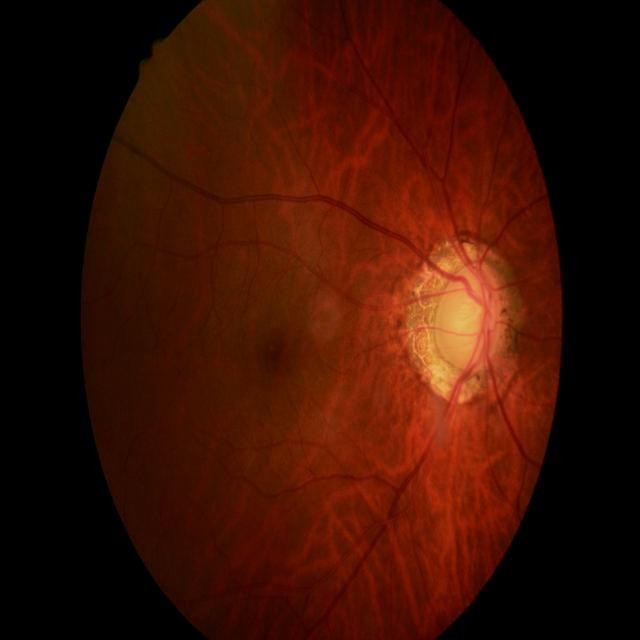cup: (436, 268, 494, 364)
disk: (436, 262, 506, 372)
